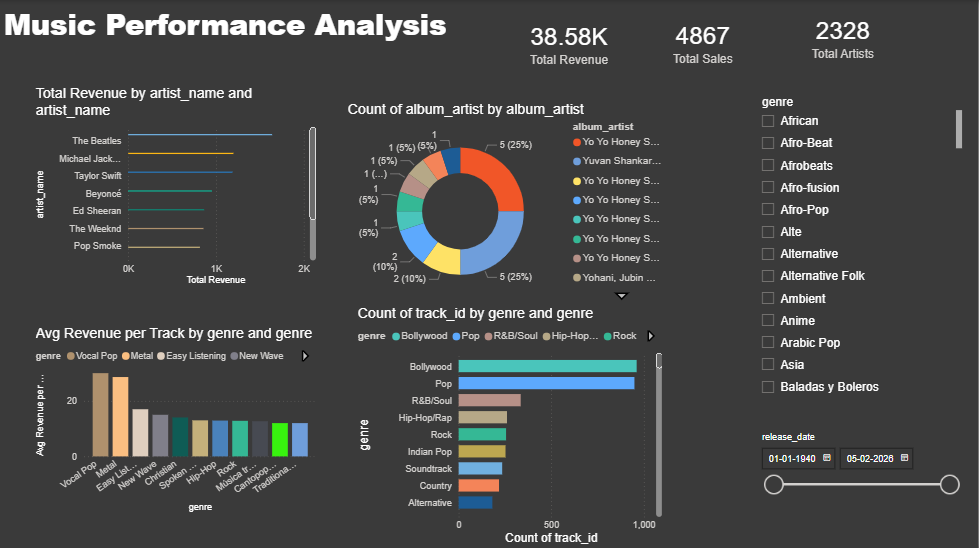

What the dashboard file says about the page in this screenshot:
{"tool":"powerbi","page":{"name":"Page 4","canvas":[1280,720],"ordinal":3},"visuals":[{"type":"slicer","fields":{"Values":["itunes_music_dataset.genre"]},"box":[984.2,119.7,279.9,406.7],"z":0},{"type":"slicer","fields":{"Values":["itunes_music_dataset.release_date"]},"box":[984.2,559.9,279.9,116.2],"z":1000},{"type":"textbox","box":[0,0,1280,94.1],"z":2000},{"type":"clusteredBarChart","fields":{"Category":["itunes_music_dataset.artist_name"],"Y":["itunes_music_dataset.Total Revenue"],"Series":["itunes_music_dataset.artist_name"]},"box":[42.3,110.9,376.8,267.6],"z":3000},{"type":"columnChart","fields":{"Category":["itunes_music_dataset.genre"],"Y":["itunes_music_dataset.Avg Revenue per Track"],"Series":["itunes_music_dataset.genre"]},"box":[42.3,426.1,376.8,250],"z":4000},{"type":"barChart","fields":{"Y":["Count(itunes_music_dataset.track_id)"],"Category":["itunes_music_dataset.genre"],"Series":["itunes_music_dataset.genre"]},"box":[463.1,399.7,408.5,318.7],"z":5000},{"type":"card","fields":{"Values":["itunes_music_dataset.Total Artists"]},"box":[1003.6,0,199,95.1],"z":6000},{"type":"card","fields":{"Values":["itunes_music_dataset.Total Revenue"]},"box":[667.3,0,154.9,110.9],"z":7000},{"type":"card","fields":{"Values":["itunes_music_dataset.Total Sales"]},"box":[836.3,14.1,167.3,79.2],"z":8000},{"type":"donutChart","fields":{"Category":["itunes_music_dataset.album_artist"],"Y":["CountNonNull(itunes_music_dataset.album_artist)"]},"box":[450.7,132,431.4,267.6],"z":9000}]}

Visuals, with their boxes in screenshot pixels (x1, y1, x2, y2), scaled from the page's 1280x720 canvas onto the 979x548 screenshot:
slicer - itunes_music_dataset.genre: bbox(753, 91, 967, 401)
slicer - itunes_music_dataset.release_date: bbox(753, 426, 967, 515)
textbox: bbox(0, 0, 978, 72)
clusteredBarChart - itunes_music_dataset.artist_name x itunes_music_dataset.Total Revenue: bbox(32, 84, 321, 288)
columnChart - itunes_music_dataset.genre x itunes_music_dataset.Avg Revenue per Track: bbox(32, 324, 321, 515)
barChart - Count(itunes_music_dataset.track_id) x itunes_music_dataset.genre: bbox(354, 304, 667, 547)
card - itunes_music_dataset.Total Artists: bbox(768, 0, 920, 72)
card - itunes_music_dataset.Total Revenue: bbox(510, 0, 629, 84)
card - itunes_music_dataset.Total Sales: bbox(640, 11, 768, 71)
donutChart - itunes_music_dataset.album_artist x CountNonNull(itunes_music_dataset.album_artist): bbox(345, 100, 675, 304)
